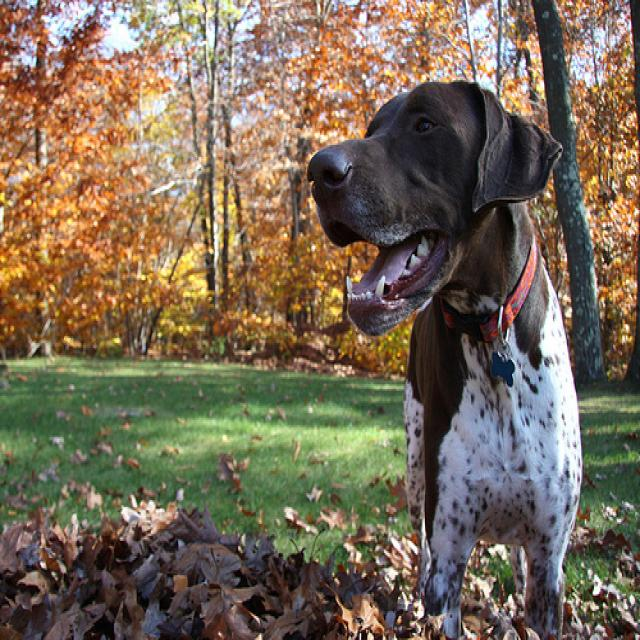dog-german_shorthaired: (301, 72, 588, 637)
